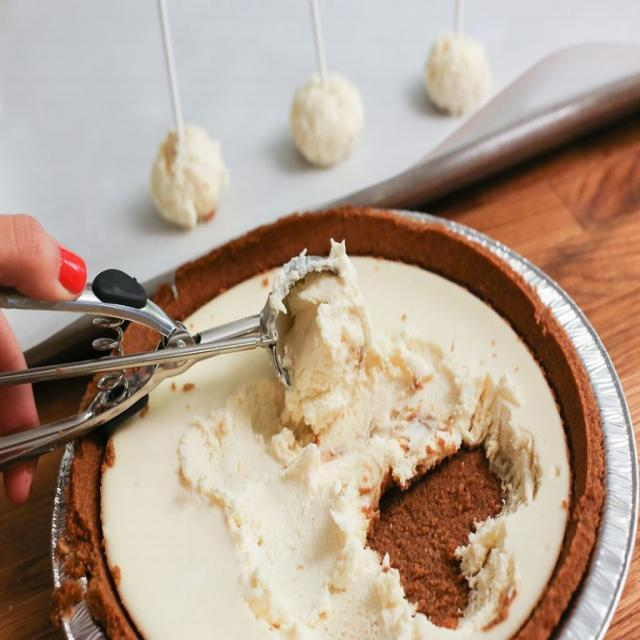Ice cream: (94, 237, 598, 639), (144, 119, 234, 235), (287, 67, 369, 176), (420, 24, 492, 120)
